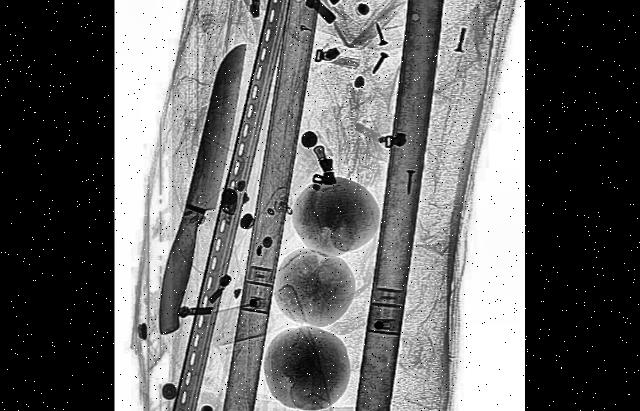Knife: (152, 29, 255, 350)
